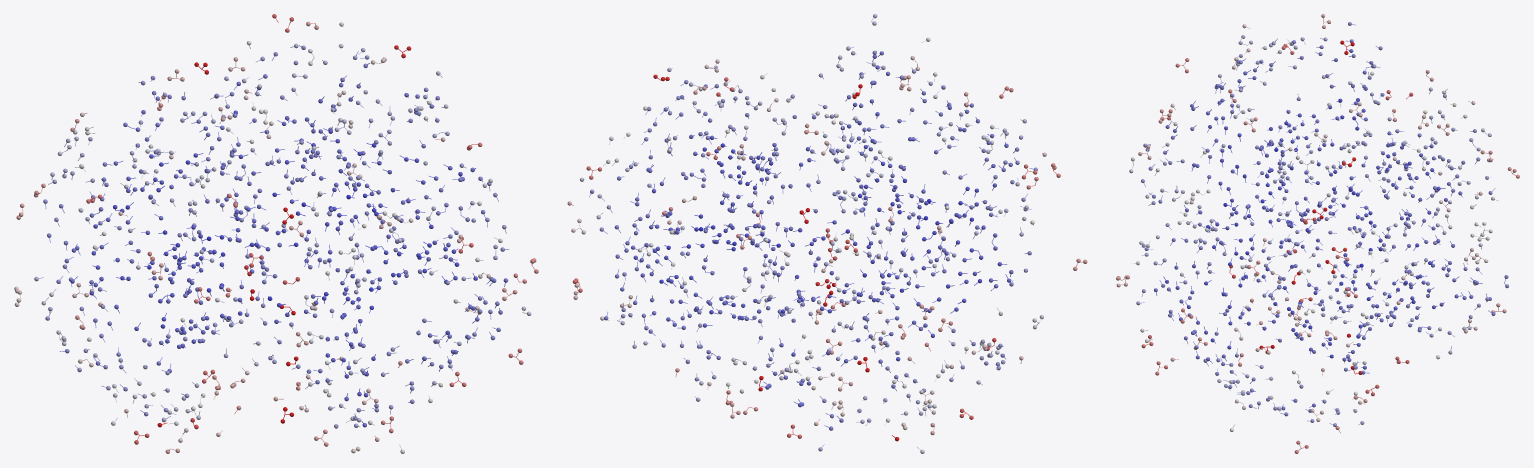
File: 4hhb__ball_and_stick__b-factor__H.glb
3 views of the same model, side by side, from view 1: azimuth 30°, elevation 25°; view 2: azimuth 150°, elevation 25°; view 3: azimuth 270°, elevation 25° (orthographic). The views are drawn at different scales.
Visible parts, largest first — view 1: Renderer Node; view 2: Renderer Node; view 3: Renderer Node.
Part boxes in pixels (x1=…): Renderer Node: x1=14, y1=14, x2=538, y2=453; Renderer Node: x1=567, y1=14, x2=1087, y2=453; Renderer Node: x1=1116, y1=14, x2=1519, y2=453.
Size of the model in its own units: 69.03 by 58.55 by 59.22.
